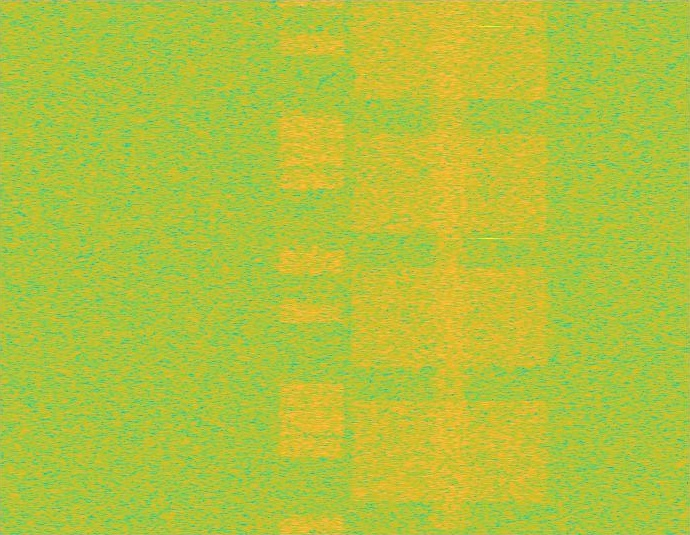5G: (346, 0, 553, 534)
DSSS: (427, 0, 473, 534)
LTE: (277, 0, 346, 534)
Radar: (483, 0, 497, 534)
